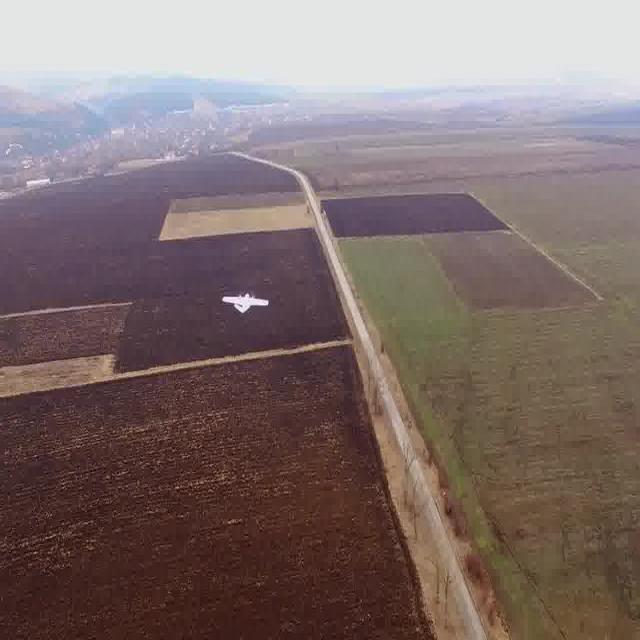iha: (221, 285, 273, 320)
